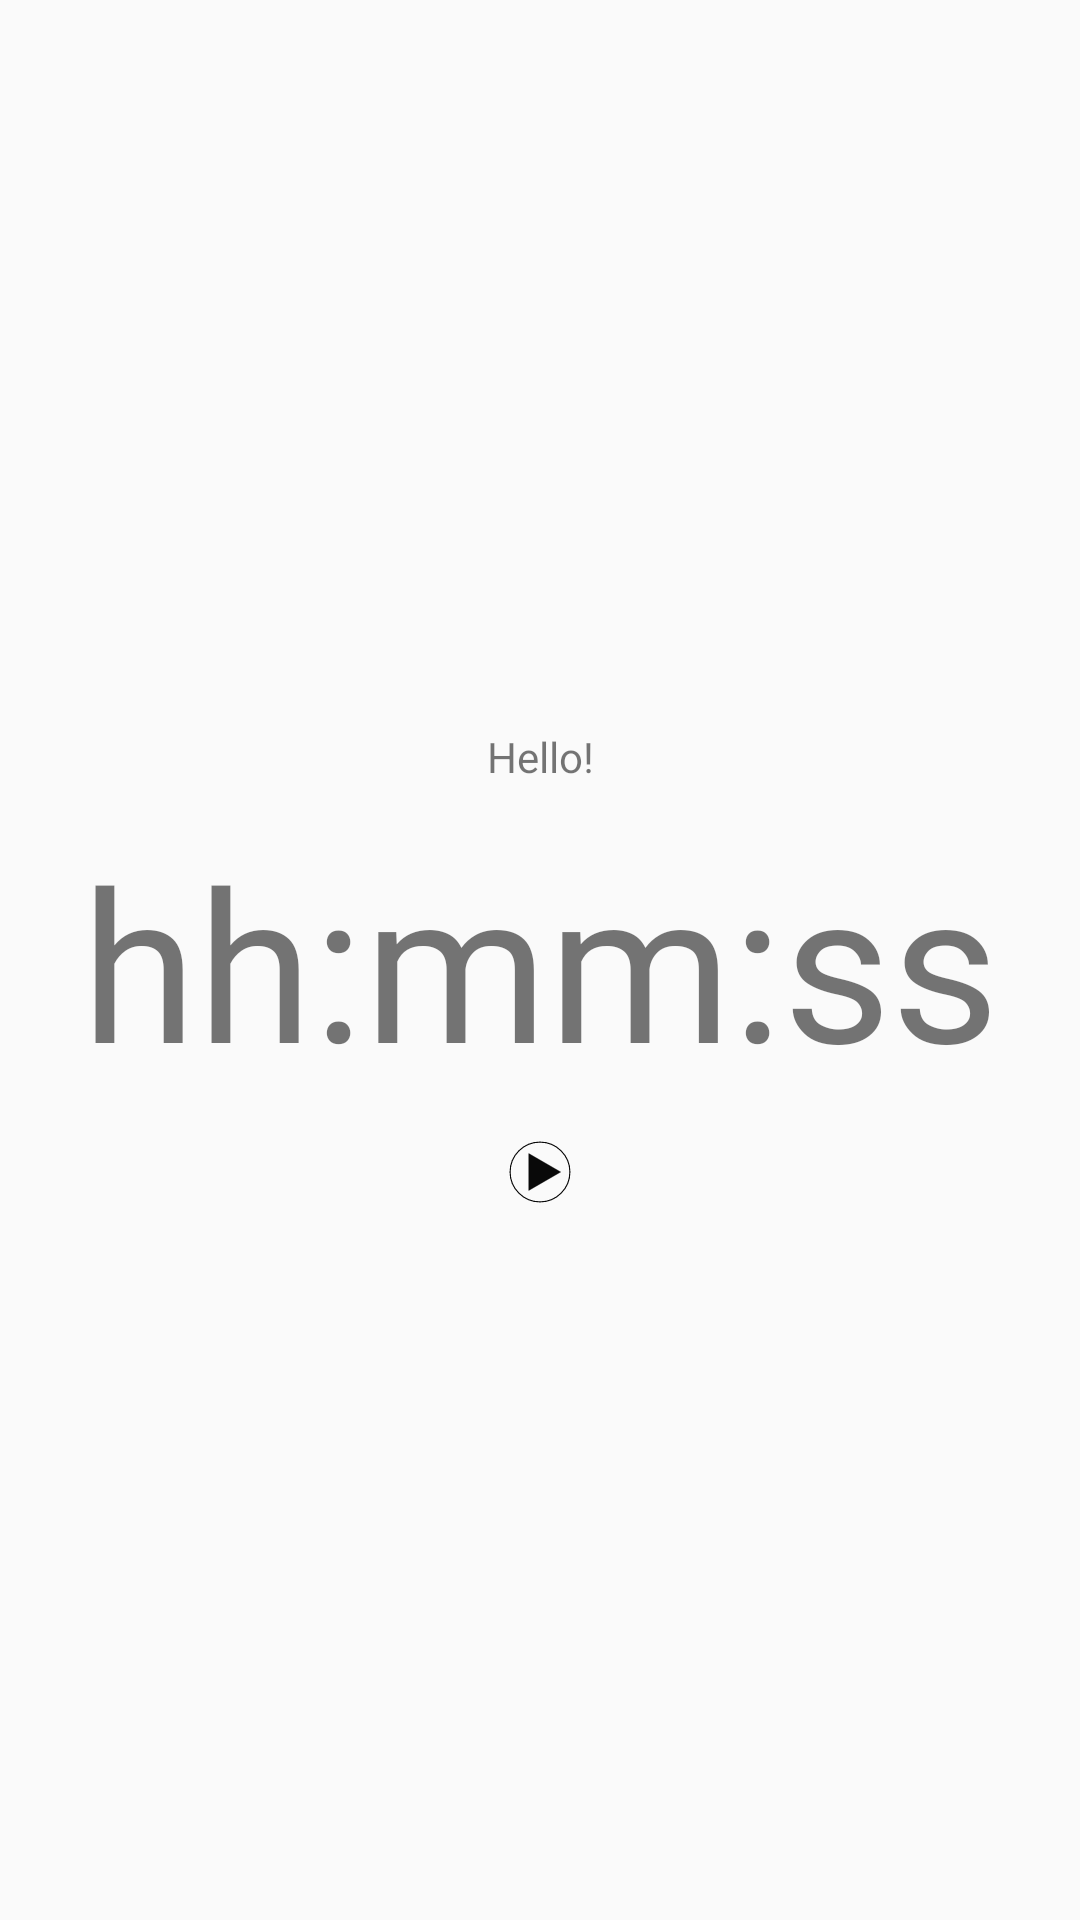

Locate icon controls on the screen. Image size 1080*1920, boxes as rect(x1, y1, x2, y2).
Run button: rect(509, 1141, 571, 1203)
